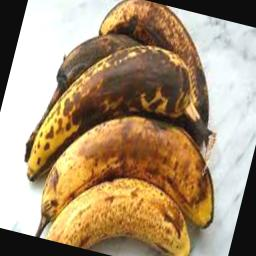Banana Overripe: (33, 161, 215, 256)
Banana Rotten: (21, 28, 233, 222), (81, 0, 236, 68)
